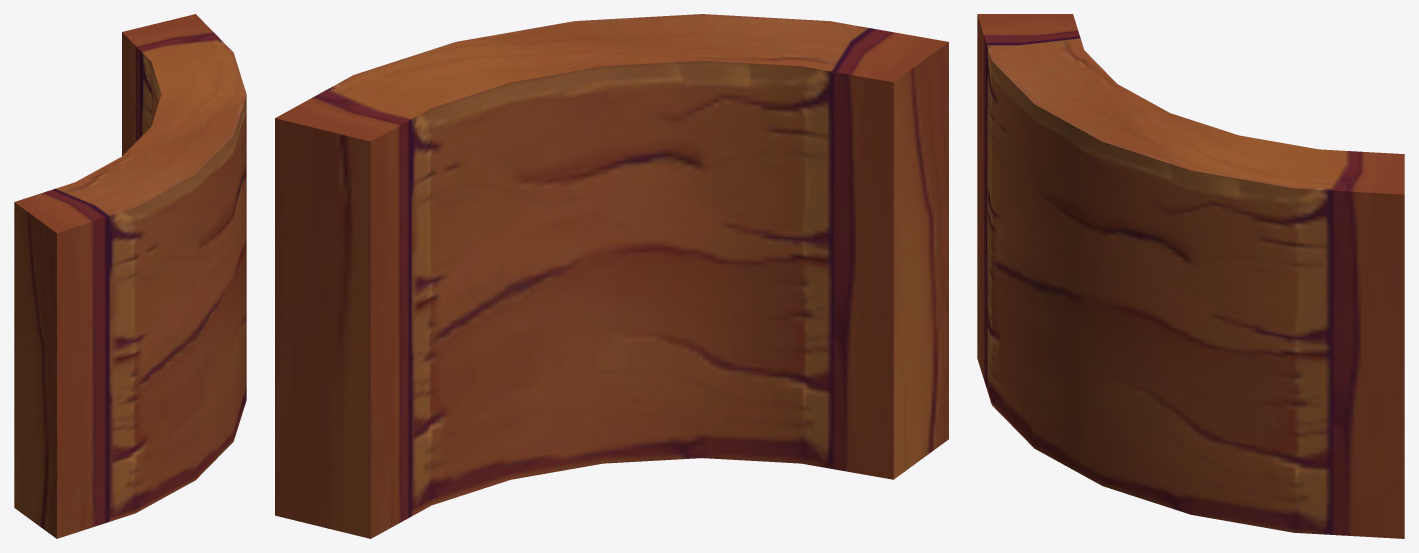
Rendered from arched_fence_wood_01.fbx.
3 renders of one model, left to right at view 1: azimuth 30°, elevation 25°; view 2: azimuth 150°, elevation 25°; view 3: azimuth 270°, elevation 25°, orthographic. The views are drawn at different scales.
Visible parts, largest first — view 1: arched_fence_wood_01; view 2: arched_fence_wood_01; view 3: arched_fence_wood_01.
Part boxes in pixels (<box>): arched_fence_wood_01: <box>14,14,246,538</box>; arched_fence_wood_01: <box>275,14,948,538</box>; arched_fence_wood_01: <box>977,14,1404,538</box>.
Bounding box in the file's own units: 45 × 40 × 45.
